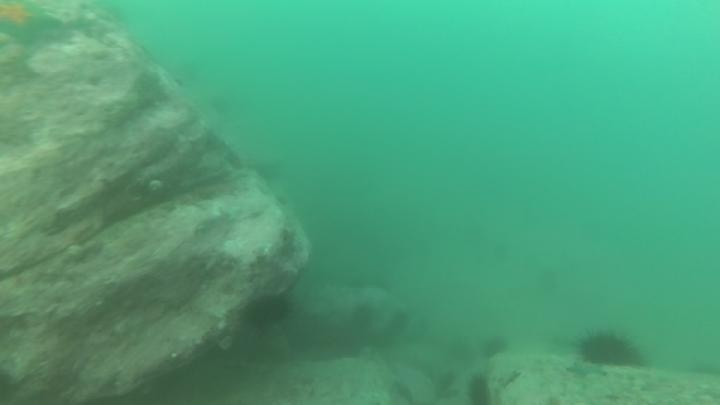echinus: (575, 326, 646, 371), (241, 288, 294, 331), (347, 300, 379, 334), (464, 372, 494, 405), (478, 332, 511, 362)
starfish: (0, 0, 65, 50), (564, 358, 608, 380)
